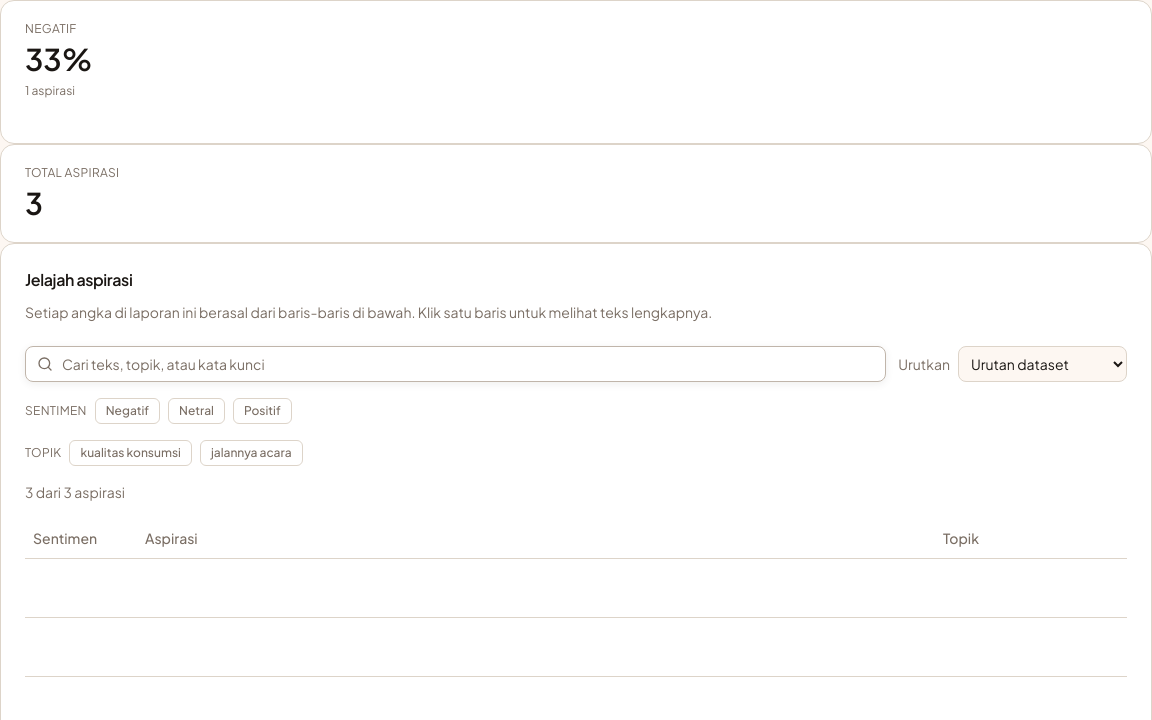
Test: evidence-first wiring › replaces rather than intersects when a second metric is clicked
Click the button "jalannya acara" at [251, 453], box [200, 440, 303, 466]
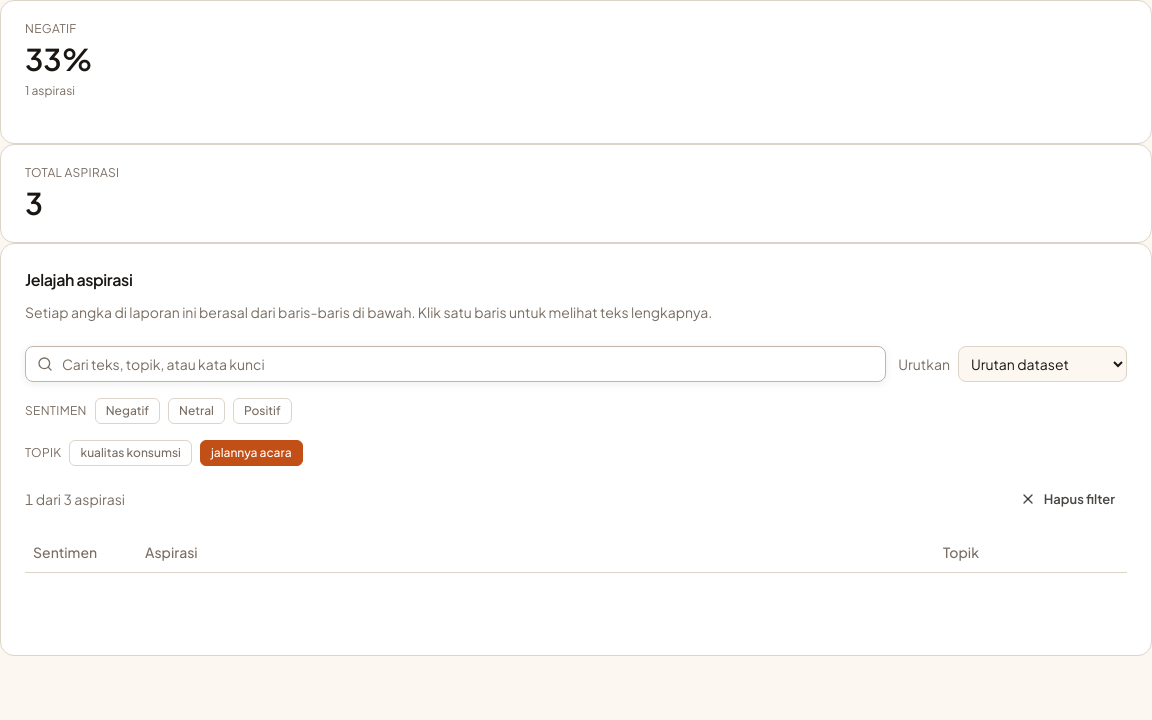
Check: the text "1 dari 3 aspirasi" is shown, box [25, 489, 125, 509]
Click the button "Negatif 33% 1 aspirasi" at [576, 72], box [0, 0, 1151, 144]
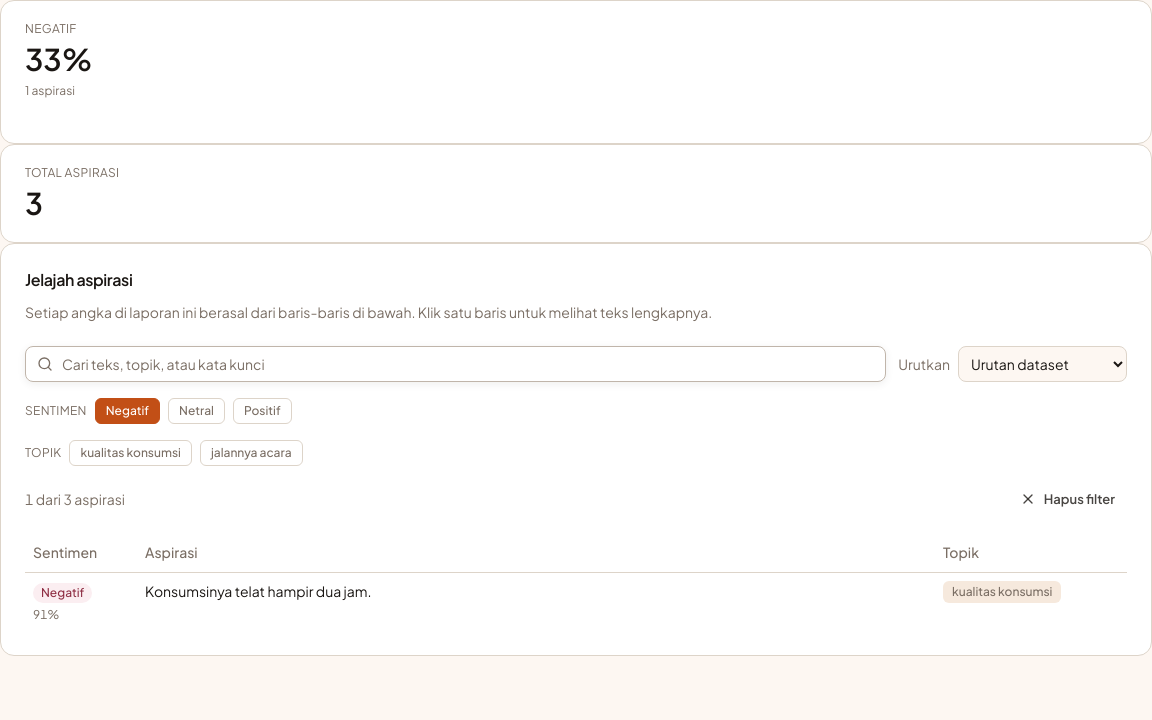
Check: the text "1 dari 3 aspirasi" is shown, box [25, 489, 125, 509]
Check: the text "Konsumsinya telat hampir dua jam." is shown, box [145, 582, 372, 600]
